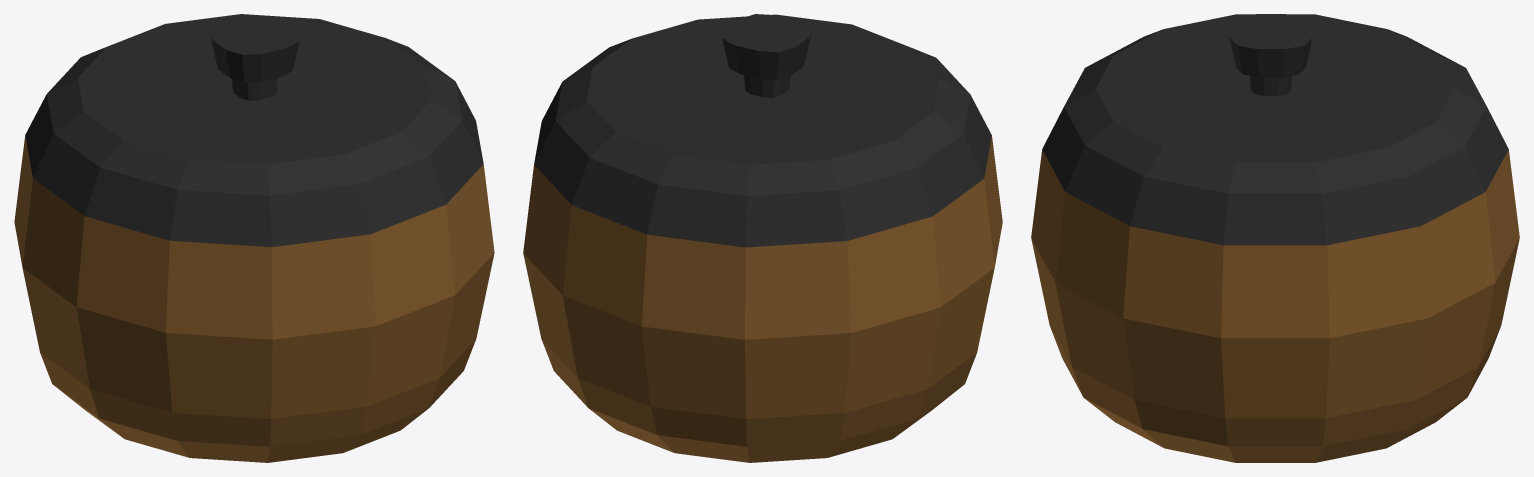
The model's file is Pot_4.fbx.
The picture shows the model from 3 angles, left to right: view 1: azimuth 30°, elevation 25°; view 2: azimuth 150°, elevation 25°; view 3: azimuth 270°, elevation 25°; orthographic projection.
Parts seen in each view (by area): view 1: Pot_4; view 2: Pot_4; view 3: Pot_4.
Part boxes in pixels (box(x1,y1,x2,y2)): Pot_4: box(14, 14, 494, 462); Pot_4: box(523, 14, 1002, 462); Pot_4: box(1031, 14, 1519, 462).
Size of the model in its own units: 0.2414 by 0.2067 by 0.2476.
